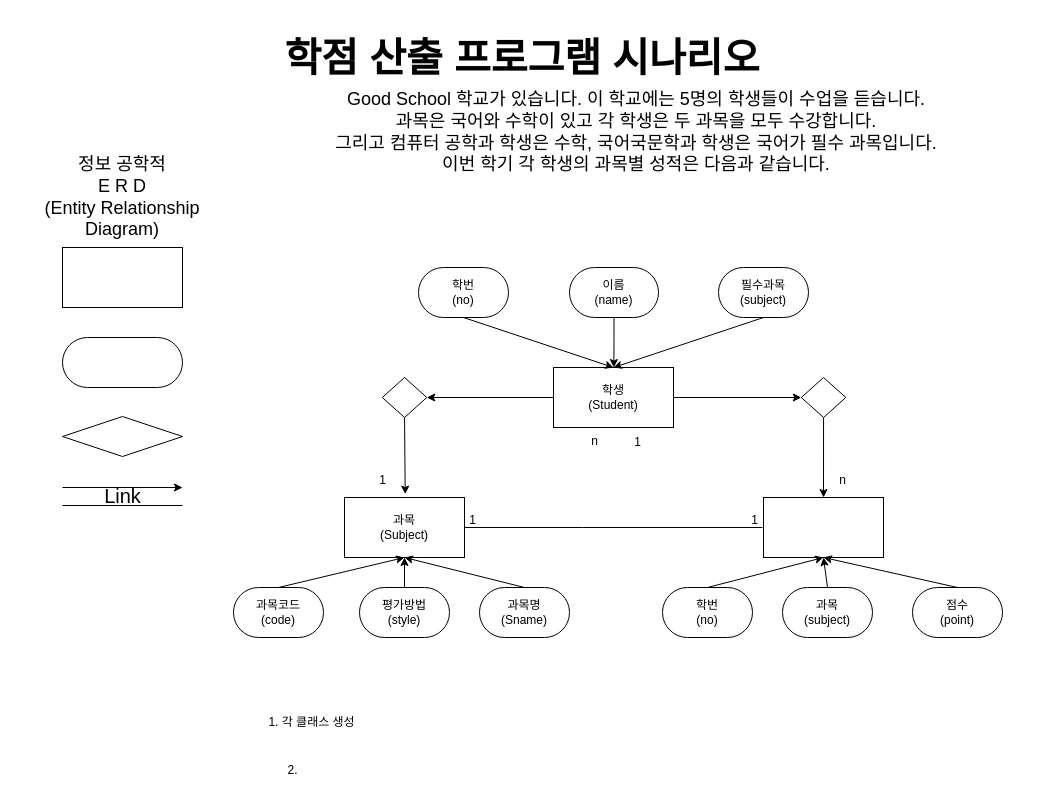
Image size: 1038x802. Some labels were removed from this diagram. The centre of each missing label's shape, as x and y in pixels:
Attribute: point (122, 362)
Entity: point (122, 277)
Relation: point (122, 436)
수강: point (404, 397)
응시: point (823, 397)
점수 (Score): point (823, 527)
